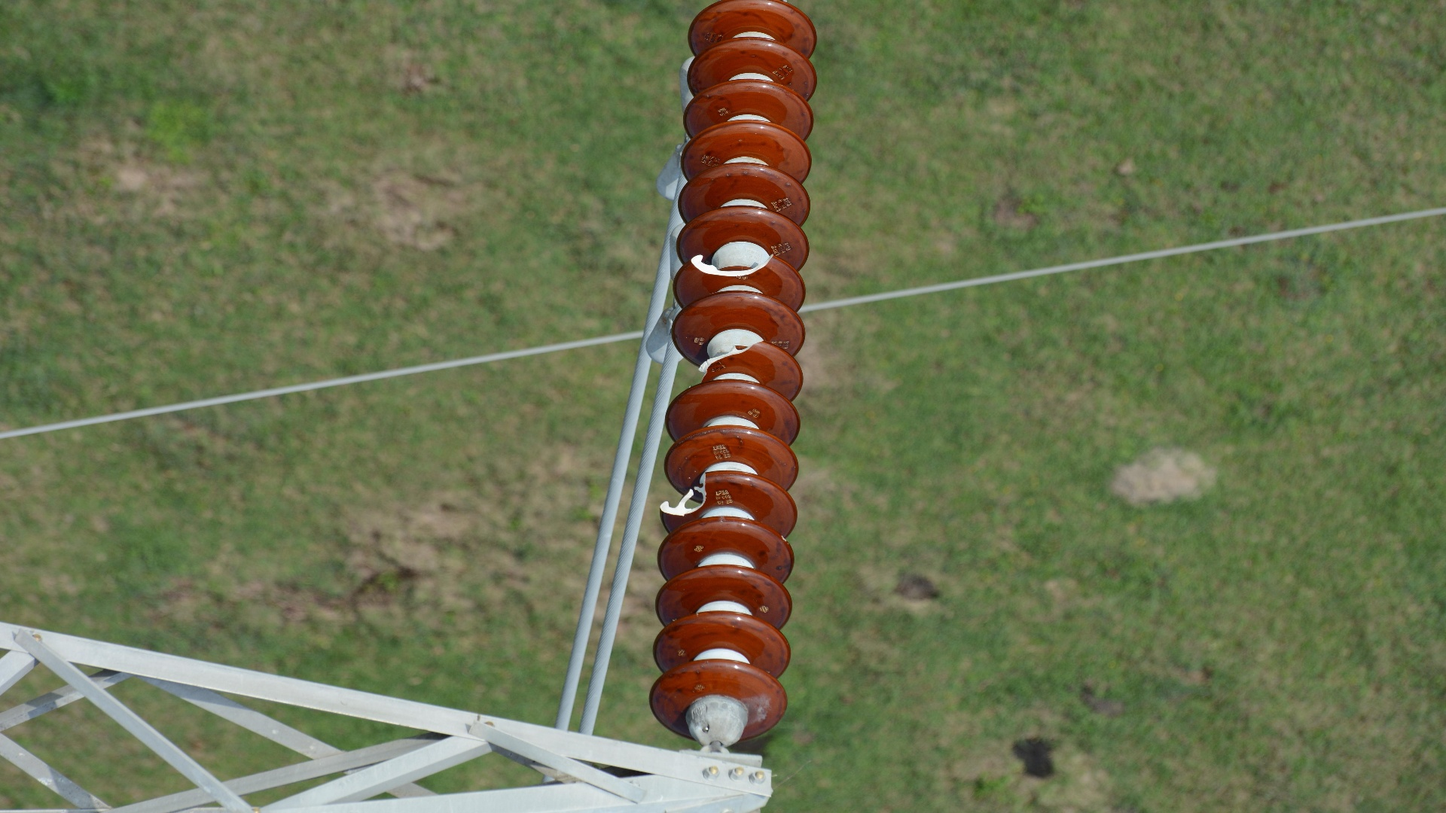insulator: (643, 1, 823, 744)
insulator_breakage: (658, 468, 713, 521), (694, 339, 769, 376), (688, 251, 777, 279)
